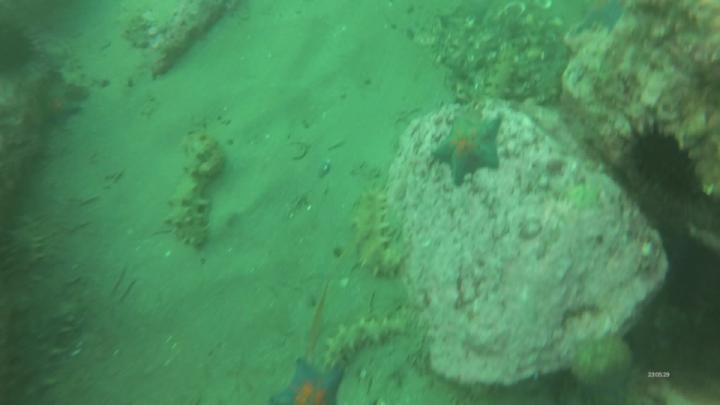echinus: (626, 128, 694, 203)
holothurian: (322, 309, 415, 366), (174, 133, 220, 248), (345, 180, 399, 276)
starfish: (439, 109, 504, 185), (275, 352, 349, 405)
